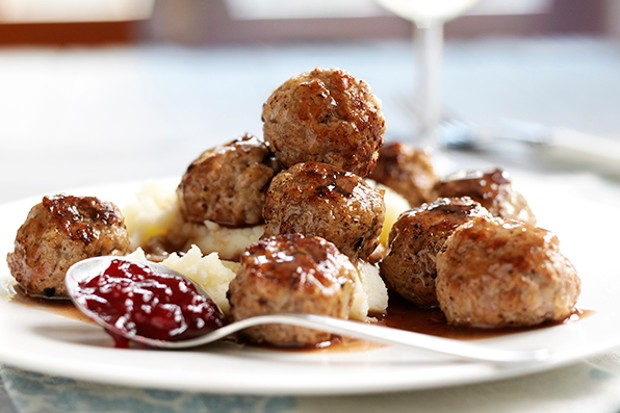meatballs: (220, 229, 372, 366), (430, 213, 589, 340), (6, 193, 138, 299), (262, 161, 390, 266), (268, 71, 387, 183), (179, 140, 281, 237), (383, 197, 464, 309)
